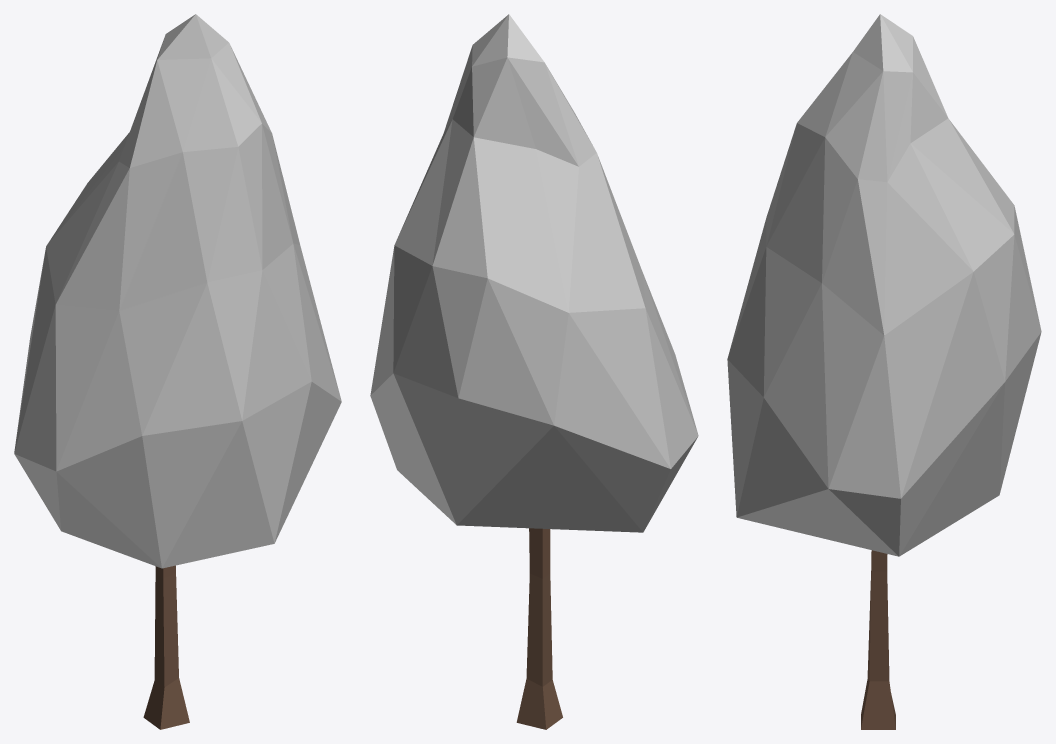
Rendered from Tree_37_White.fbx.
The picture shows the model from 3 angles, left to right: view 1: azimuth 30°, elevation 25°; view 2: azimuth 150°, elevation 25°; view 3: azimuth 270°, elevation 25°; orthographic projection. The views are drawn at different scales.
Parts seen in each view (by area): view 1: Tree_37_White_Part_1, Tree_37_White_Part_2; view 2: Tree_37_White_Part_1, Tree_37_White_Part_2; view 3: Tree_37_White_Part_1, Tree_37_White_Part_2.
Part boxes in pixels (bbox=[...]): Tree_37_White_Part_1: bbox=[14, 14, 341, 568]; Tree_37_White_Part_2: bbox=[143, 565, 189, 729]; Tree_37_White_Part_1: bbox=[370, 14, 698, 532]; Tree_37_White_Part_2: bbox=[516, 528, 562, 729]; Tree_37_White_Part_1: bbox=[727, 14, 1041, 556]; Tree_37_White_Part_2: bbox=[861, 550, 895, 729].
Bounding box in the file's own units: 358 × 797 × 314.
